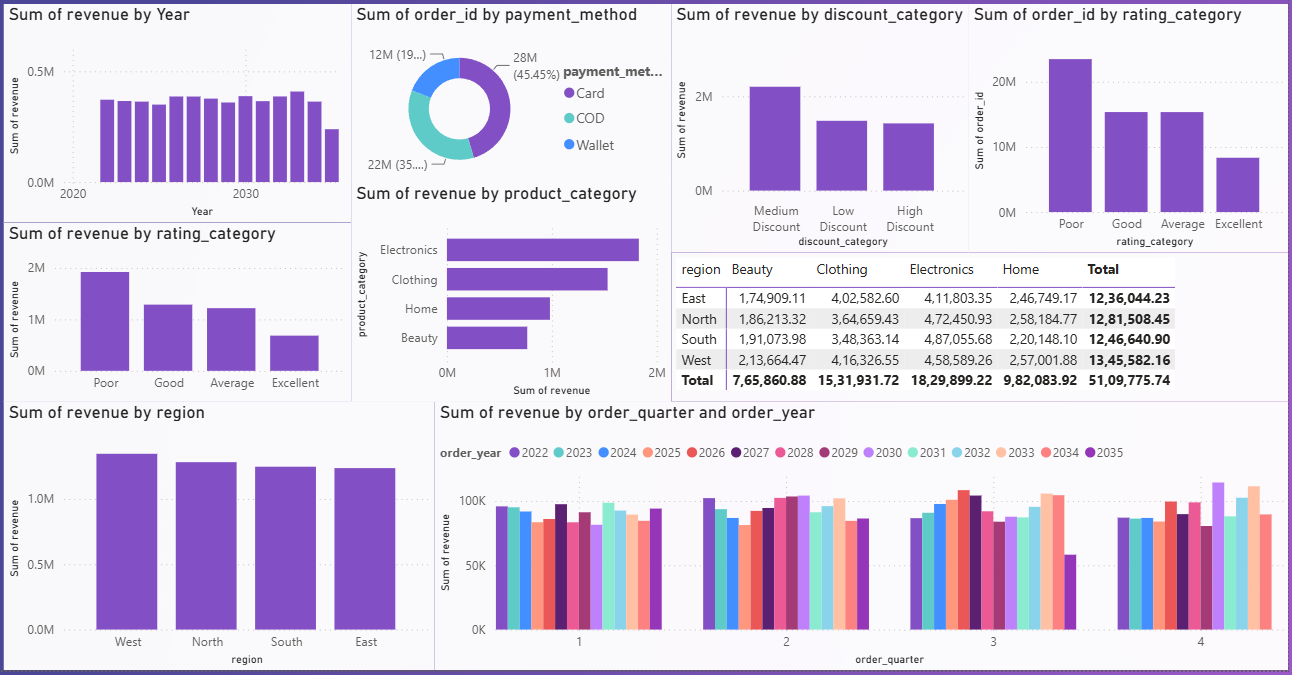

The dashboard page shown, as its layout file describes it:
{"tool":"powerbi","page":{"name":"Page 2","canvas":[1280,720],"ordinal":1},"visuals":[{"type":"clusteredColumnChart","fields":{"Category":["ecommerce_sales_dashboard.order_date.Variation.Date Hierarchy.Year","ecommerce_sales_dashboard.order_date.Variation.Date Hierarchy.Quarter","ecommerce_sales_dashboard.order_date.Variation.Date Hierarchy.Month","ecommerce_sales_dashboard.order_date.Variation.Date Hierarchy.Day"],"Y":["Sum(ecommerce_sales_dashboard.revenue)"]},"box":[23.2,68.5,339.9,214],"z":0},{"type":"clusteredBarChart","fields":{"Category":["ecommerce_sales_dashboard.product_category"],"Y":["Sum(ecommerce_sales_dashboard.revenue)"]},"box":[363.2,243.3,313,214],"z":1000},{"type":"clusteredColumnChart","fields":{"Category":["ecommerce_sales_dashboard.region"],"Y":["Sum(ecommerce_sales_dashboard.revenue)"]},"box":[23.2,457.3,421.9,262.9],"z":2000},{"type":"donutChart","fields":{"Category":["ecommerce_sales_dashboard.payment_method"],"Y":["Sum(ecommerce_sales_dashboard.order_id)"]},"box":[363.2,68.5,313,174.9],"z":3000},{"type":"columnChart","fields":{"Category":["ecommerce_sales_dashboard.discount_category"],"Y":["Sum(ecommerce_sales_dashboard.revenue)"]},"box":[676.2,68.5,291,243.3],"z":4000},{"type":"clusteredColumnChart","fields":{"Category":["ecommerce_sales_dashboard.rating_category"],"Y":["Sum(ecommerce_sales_dashboard.order_id)"]},"box":[967.3,68.5,313,243.3],"z":5000},{"type":"pivotTable","fields":{"Columns":["ecommerce_sales_dashboard.product_category"],"Rows":["ecommerce_sales_dashboard.region"],"Values":["Sum(ecommerce_sales_dashboard.revenue)"]},"box":[676.2,311.8,604.1,145.5],"z":5001},{"type":"clusteredColumnChart","fields":{"Category":["ecommerce_sales_dashboard.order_quarter"],"Series":["ecommerce_sales_dashboard.order_year"],"Y":["Sum(ecommerce_sales_dashboard.revenue)"]},"box":[445.1,457.3,835.2,262.9],"z":5002},{"type":"clusteredColumnChart","fields":{"Category":["ecommerce_sales_dashboard.rating_category"],"Y":["Sum(ecommerce_sales_dashboard.revenue)"]},"box":[23.2,282.5,339.9,174.9],"z":5003}]}

Visuals, with their boxes on the page's 1280x720 design canvas (x1, y1, x2, y2). These are canvas units, not pixel positions in the 1292x675 screenshot, which may show the page scaled, cropped or inside an application window:
clusteredColumnChart - ecommerce_sales_dashboard.order_date.Variation.Date Hierarchy.Year x ecommerce_sales_dashboard.order_date.Variation.Date Hierarchy.Quarter: 23,68,363,282
clusteredBarChart - ecommerce_sales_dashboard.product_category x Sum(ecommerce_sales_dashboard.revenue): 363,243,676,457
clusteredColumnChart - ecommerce_sales_dashboard.region x Sum(ecommerce_sales_dashboard.revenue): 23,457,445,720
donutChart - ecommerce_sales_dashboard.payment_method x Sum(ecommerce_sales_dashboard.order_id): 363,68,676,243
columnChart - ecommerce_sales_dashboard.discount_category x Sum(ecommerce_sales_dashboard.revenue): 676,68,967,312
clusteredColumnChart - ecommerce_sales_dashboard.rating_category x Sum(ecommerce_sales_dashboard.order_id): 967,68,1280,312
pivotTable - ecommerce_sales_dashboard.product_category x ecommerce_sales_dashboard.region: 676,312,1280,457
clusteredColumnChart - ecommerce_sales_dashboard.order_quarter x ecommerce_sales_dashboard.order_year: 445,457,1280,720
clusteredColumnChart - ecommerce_sales_dashboard.rating_category x Sum(ecommerce_sales_dashboard.revenue): 23,282,363,457
